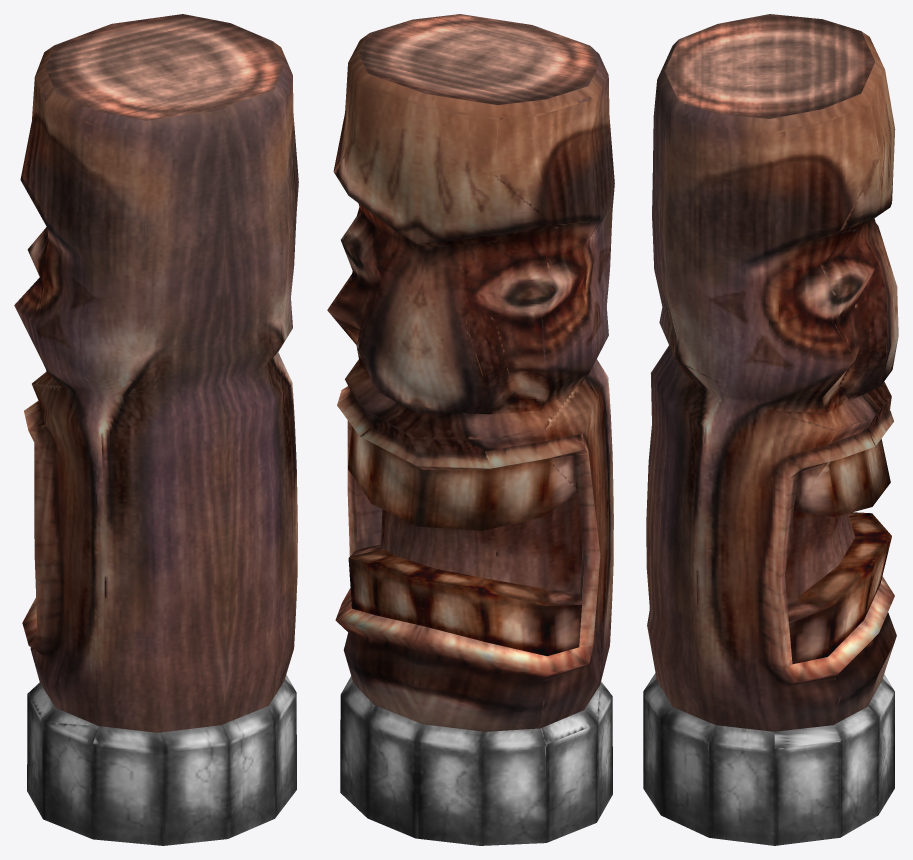
Rendered from tikistatue.fbx.
3 renders of one model, left to right at view 1: azimuth 30°, elevation 25°; view 2: azimuth 150°, elevation 25°; view 3: azimuth 270°, elevation 25°, orthographic.
Parts seen in each view (by area): view 1: Cylinder21; view 2: Cylinder21; view 3: Cylinder21.
Boxes of the visible parts, x1=… form: Cylinder21: x1=14, y1=14, x2=298, y2=845; Cylinder21: x1=327, y1=14, x2=614, y2=845; Cylinder21: x1=643, y1=14, x2=898, y2=845.
Bounding box in the file's own units: 2.16 × 6.03 × 1.92.
Materials: 1 (1 with a texture image).
